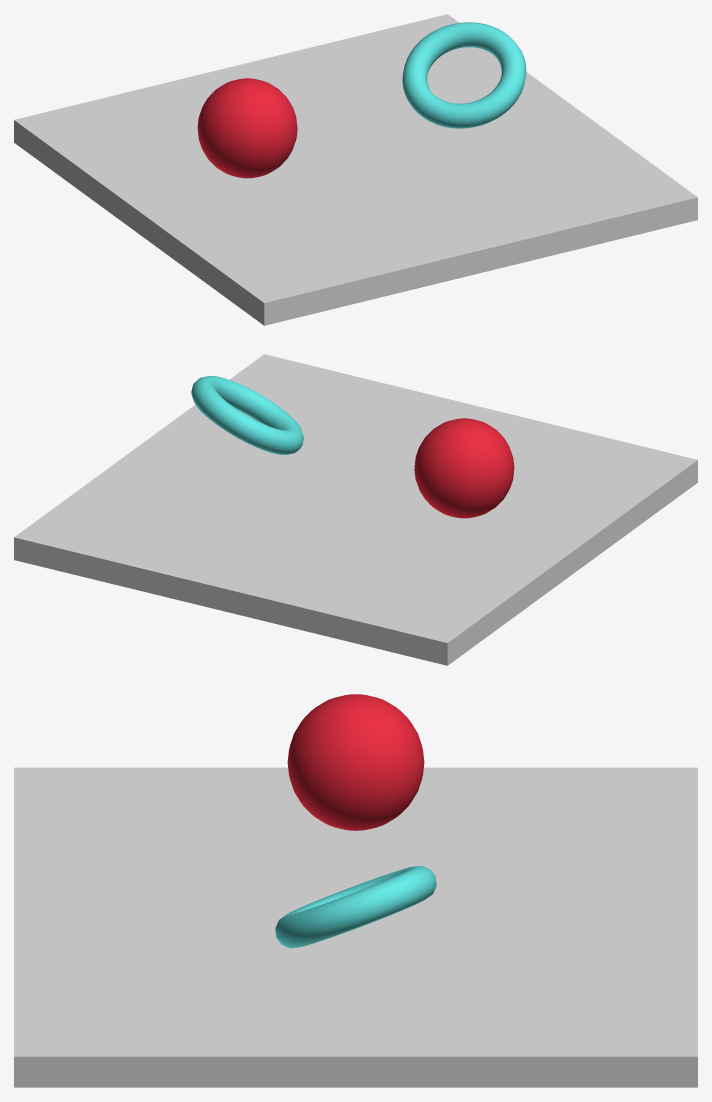
The picture shows the model from 3 angles, top to bottom: view 1: azimuth 30°, elevation 25°; view 2: azimuth 150°, elevation 25°; view 3: azimuth 270°, elevation 25°; orthographic projection. The views are drawn at different scales.
Parts seen in each view (by area): view 1: Cube, Sphere, Torus; view 2: Cube, Sphere, Torus; view 3: Cube, Sphere, Torus.
Boxes of the visible parts, x1,y1,x2,y2 form: Cube: [14, 14, 697, 325]; Sphere: [197, 78, 297, 178]; Torus: [402, 22, 526, 128]; Cube: [14, 354, 697, 665]; Sphere: [414, 418, 514, 518]; Torus: [191, 376, 303, 454]; Cube: [14, 767, 697, 1087]; Sphere: [287, 694, 424, 830]; Torus: [275, 866, 436, 948].
Bounding box in the file's own units: 1000 × 275 × 1000.
